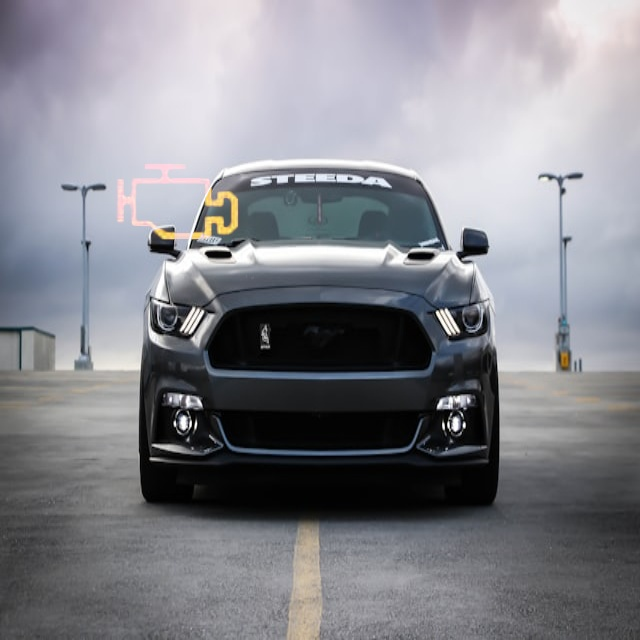symbol: (87, 113, 265, 291)
